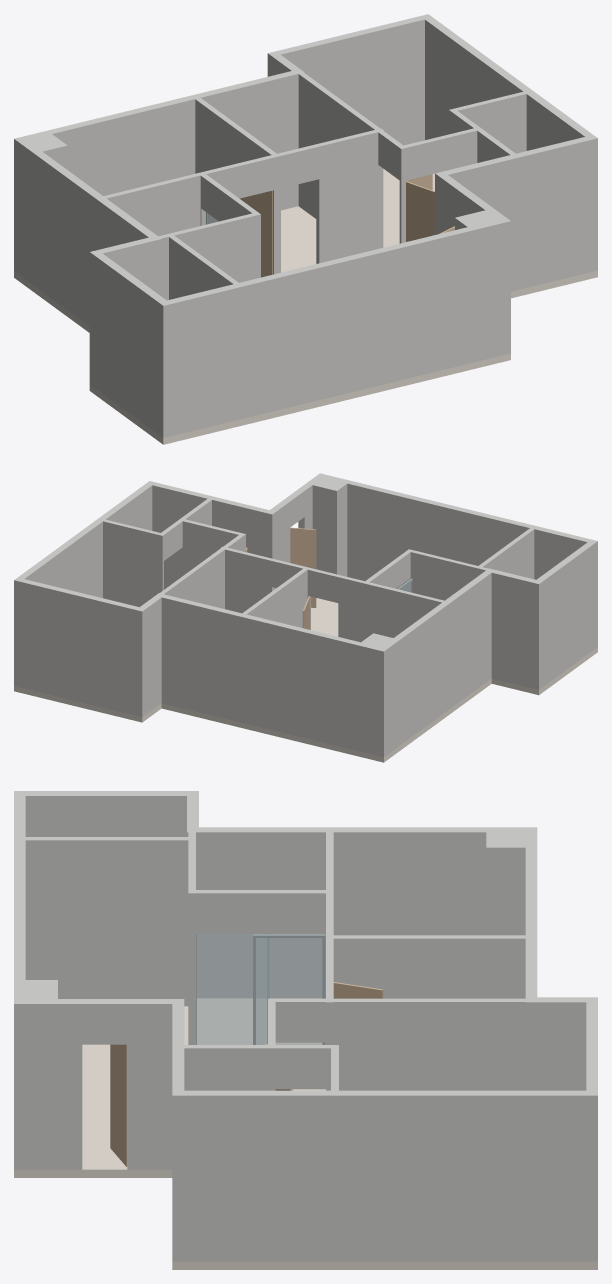
The model's file is floorplan.glb.
3 views of the same model, one above another, from view 1: azimuth 30°, elevation 25°; view 2: azimuth 150°, elevation 25°; view 3: azimuth 270°, elevation 25° (orthographic). The views are drawn at different scales.
Parts seen in each view (by area): view 1: wall_shell, floor_slab, door_east_small_room, door_north_left; view 2: wall_shell, floor_slab, door_entry; view 3: wall_shell, floor_slab, glass_sliding_1, glass_sliding_0, door_entry, door_north_middle.
Part boxes in pixels (box(x1,y1,x2,y2)): wall_shell: box(14, 14, 597, 438); floor_slab: box(14, 169, 597, 444); door_east_small_room: box(406, 181, 434, 241); door_north_left: box(240, 190, 272, 277); wall_shell: box(14, 473, 597, 757); floor_slab: box(14, 598, 597, 762); door_entry: box(290, 527, 316, 607); wall_shell: box(14, 791, 597, 1261); floor_slab: box(14, 998, 597, 1269); glass_sliding_1: box(197, 934, 266, 1044); glass_sliding_0: box(256, 938, 322, 1044); door_entry: box(110, 1044, 127, 1166); door_north_middle: box(333, 982, 383, 998).
Size of the model in its own units: 11.02 by 2.94 by 8.93.
